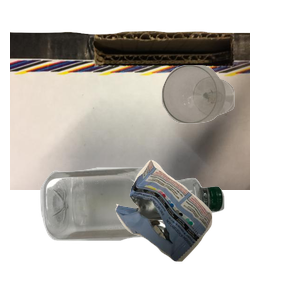cardboard: (10, 29, 250, 209)
glass: (159, 63, 300, 179)
plastic: (38, 165, 255, 300)
trash: (113, 157, 300, 300)
